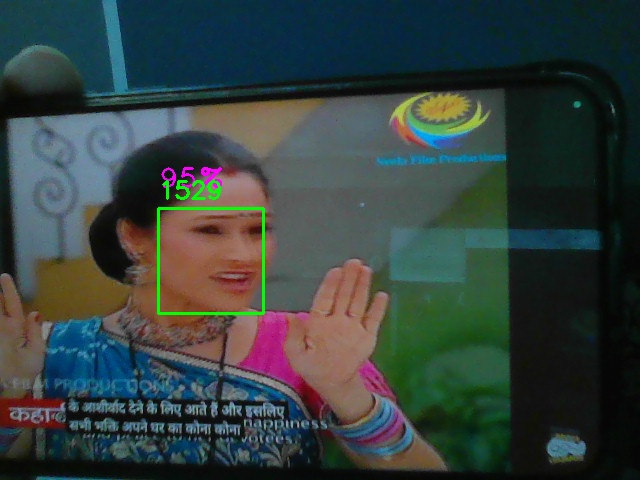fake: (158, 208, 264, 314)
